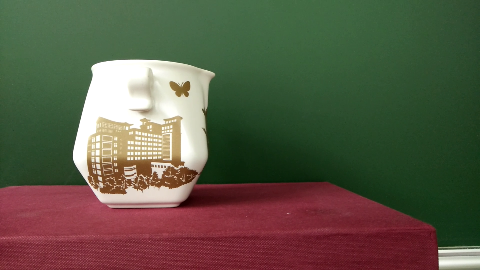butterfly: (162, 68, 199, 108)
lenwen: (95, 127, 179, 185)
